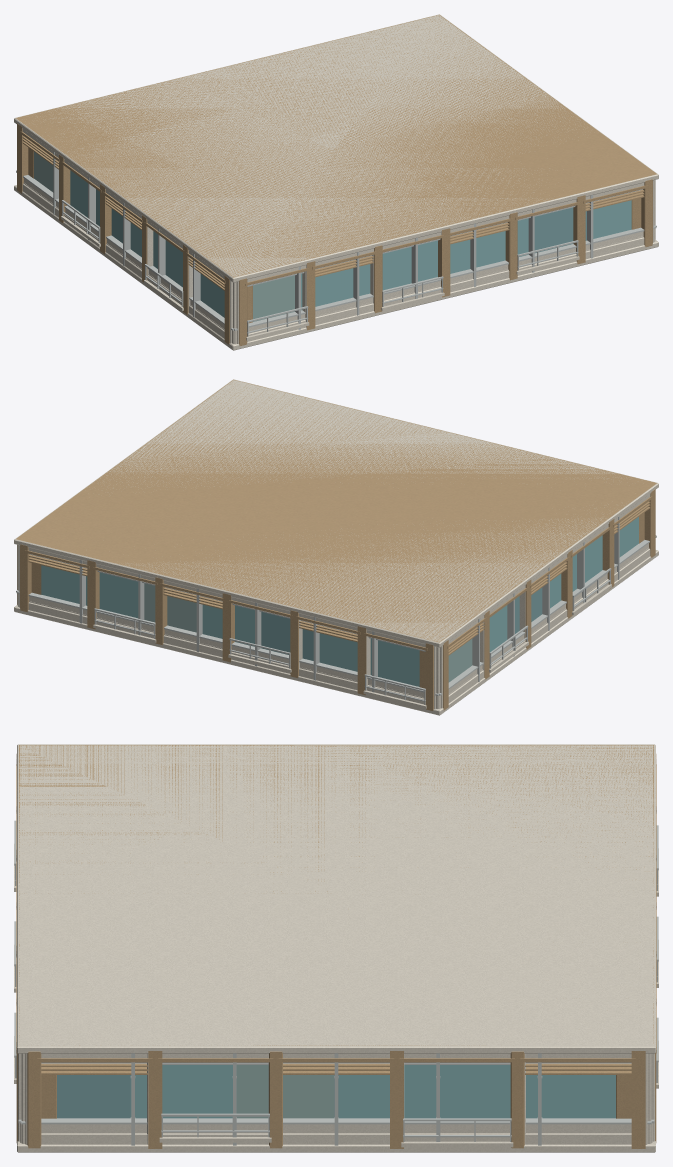
Rendered from district.glb.
3 renders of one model, top to bottom at view 1: azimuth 30°, elevation 25°; view 2: azimuth 150°, elevation 25°; view 3: azimuth 270°, elevation 25°, orthographic. The views are drawn at different scales.
Visible parts, largest first — view 1: Floor_Sand_sand, Floor_Glass_stone, Floor_Stone_stone, Floor_Glass_glass, Roof_Garden_stone, Floor_Glass_trim, Roof_Garden_trim, Floor_Glass_warm, Floor_Glass_cool, Floor_Sand_trim, Floor_Sand_stone; view 2: Floor_Sand_sand, Floor_Glass_stone, Floor_Stone_stone, Floor_Glass_glass, Roof_Garden_stone, Floor_Glass_trim, Roof_Garden_trim, Floor_Glass_warm, Floor_Glass_cool, Floor_Sand_trim, Floor_Sand_stone; view 3: Floor_Glass_stone, Floor_Stone_stone, Floor_Sand_sand, Floor_Glass_glass, Roof_Garden_stone, Floor_Glass_warm, Roof_Garden_trim, Floor_Glass_cool, Floor_Sand_trim, Floor_Glass_trim, Floor_Sand_stone.
Boxes of the visible parts, box(x1,y1,x2,y2) form: Floor_Sand_sand: box(16, 14, 656, 345); Floor_Glass_stone: box(37, 15, 584, 276); Floor_Stone_stone: box(14, 14, 658, 350); Floor_Glass_glass: box(70, 170, 631, 317); Roof_Garden_stone: box(14, 178, 658, 348); Floor_Glass_trim: box(53, 151, 642, 329); Roof_Garden_trim: box(16, 170, 656, 330); Floor_Glass_warm: box(34, 152, 294, 321); Floor_Glass_cool: box(96, 189, 586, 253); Floor_Sand_trim: box(61, 200, 578, 336); Floor_Sand_stone: box(61, 216, 579, 340); Floor_Sand_sand: box(16, 379, 656, 710); Floor_Glass_stone: box(92, 380, 621, 641); Floor_Stone_stone: box(14, 379, 658, 715); Floor_Glass_glass: box(41, 517, 638, 686); Roof_Garden_stone: box(14, 543, 658, 714); Floor_Glass_trim: box(30, 516, 619, 692); Roof_Garden_trim: box(16, 535, 656, 695); Floor_Glass_warm: box(144, 583, 472, 682); Floor_Glass_cool: box(261, 587, 542, 660); Floor_Sand_trim: box(94, 568, 611, 704); Floor_Sand_stone: box(93, 584, 611, 708); Floor_Glass_stone: box(20, 745, 652, 1045); Floor_Stone_stone: box(17, 744, 655, 1152); Floor_Sand_sand: box(16, 745, 656, 1148); Floor_Glass_glass: box(135, 1065, 615, 1118); Roof_Garden_stone: box(17, 1123, 655, 1151); Floor_Glass_warm: box(237, 1065, 334, 1118); Roof_Garden_trim: box(18, 1117, 654, 1124); Floor_Glass_cool: box(57, 1075, 130, 1118); Floor_Sand_trim: box(14, 820, 658, 1141); Floor_Glass_trim: box(41, 1053, 631, 1145); Floor_Sand_stone: box(14, 844, 658, 1147).
Size of the model in its own units: 18.55 by 3 by 16.55.
Materials: 11 (2 with a texture image).
